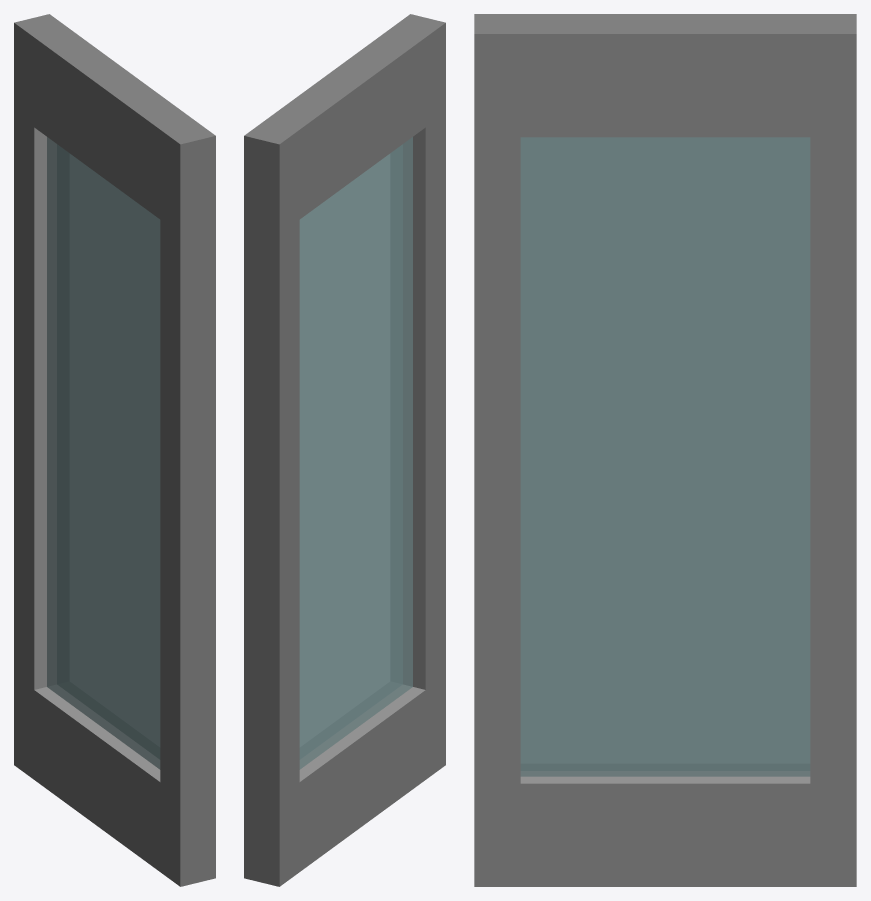
The model's file is basic_door.fbx.
3 views of the same model, side by side, from view 1: azimuth 30°, elevation 25°; view 2: azimuth 150°, elevation 25°; view 3: azimuth 270°, elevation 25° (orthographic). The views are drawn at different scales.
Parts seen in each view (by area): view 1: pCube305; view 2: pCube305; view 3: pCube305.
Boxes of the visible parts, x1,y1,x2,y2 form: pCube305: (14, 14, 215, 886); pCube305: (244, 14, 445, 886); pCube305: (474, 14, 856, 886).
Size of the model in its own units: 0.4249 by 8.5 by 3.45.
